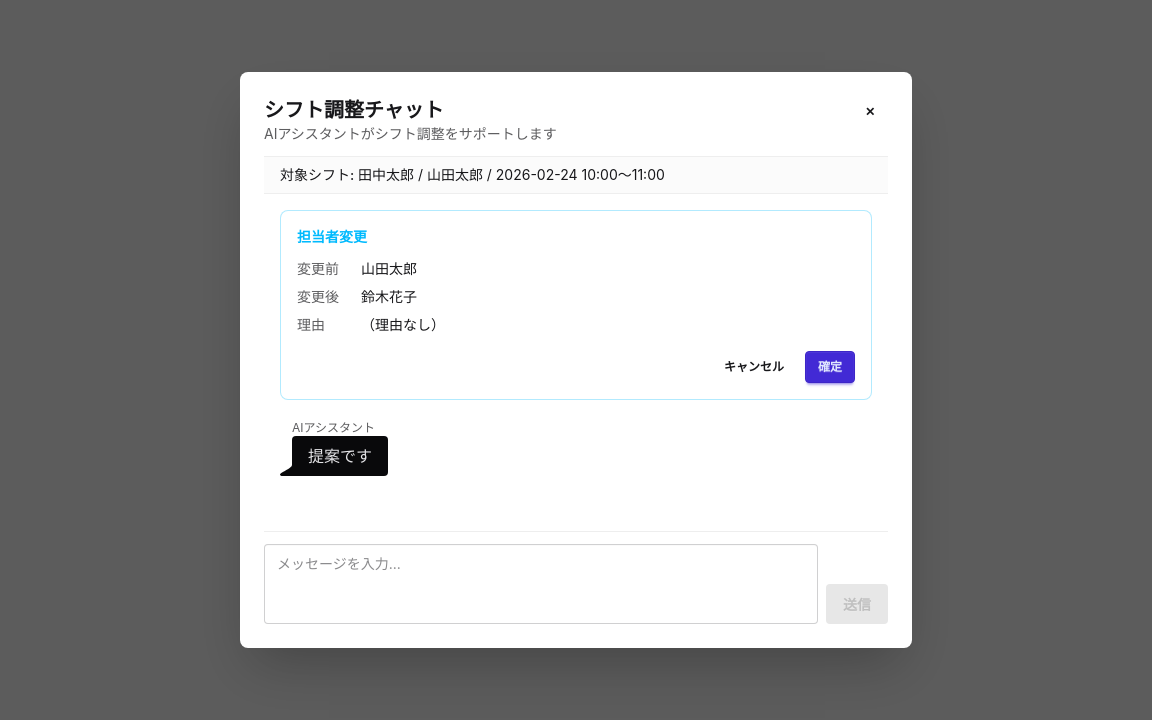
Scenario: AdjustmentChatDialog › キャンセル押下でカードが非表示になる
What coordinates should you click on to do the following:
click the button "キャンセル"
I would click on:
 (754, 367)
Its box is [711,351,797,383].
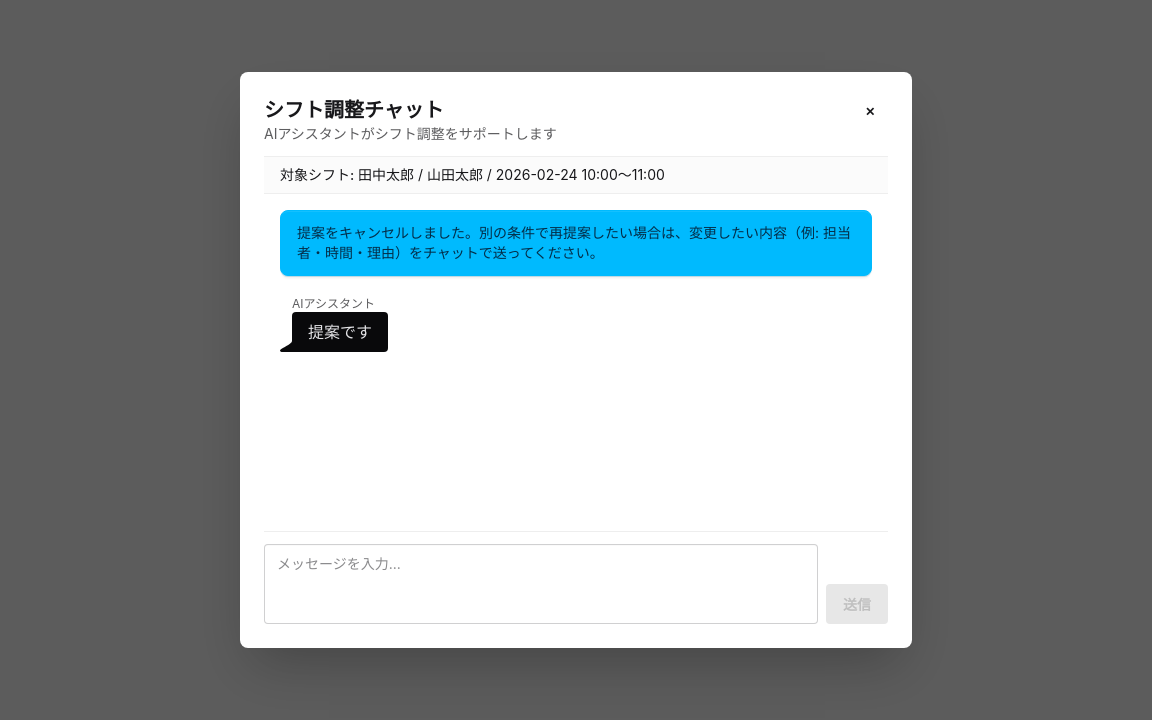
expect the text "担当者変更" is gone: met
expect the text "提案をキャンセルしました。別の条件で再提案したい場合は、変更したい内容（例: 担当者・時間・理由）をチャットで送ってください。" is shown: met, box [280,210,872,276]
